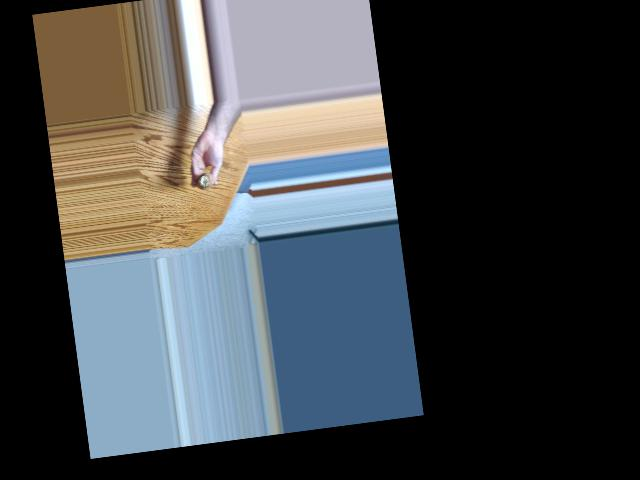sweet_potato: (197, 171, 217, 194)
